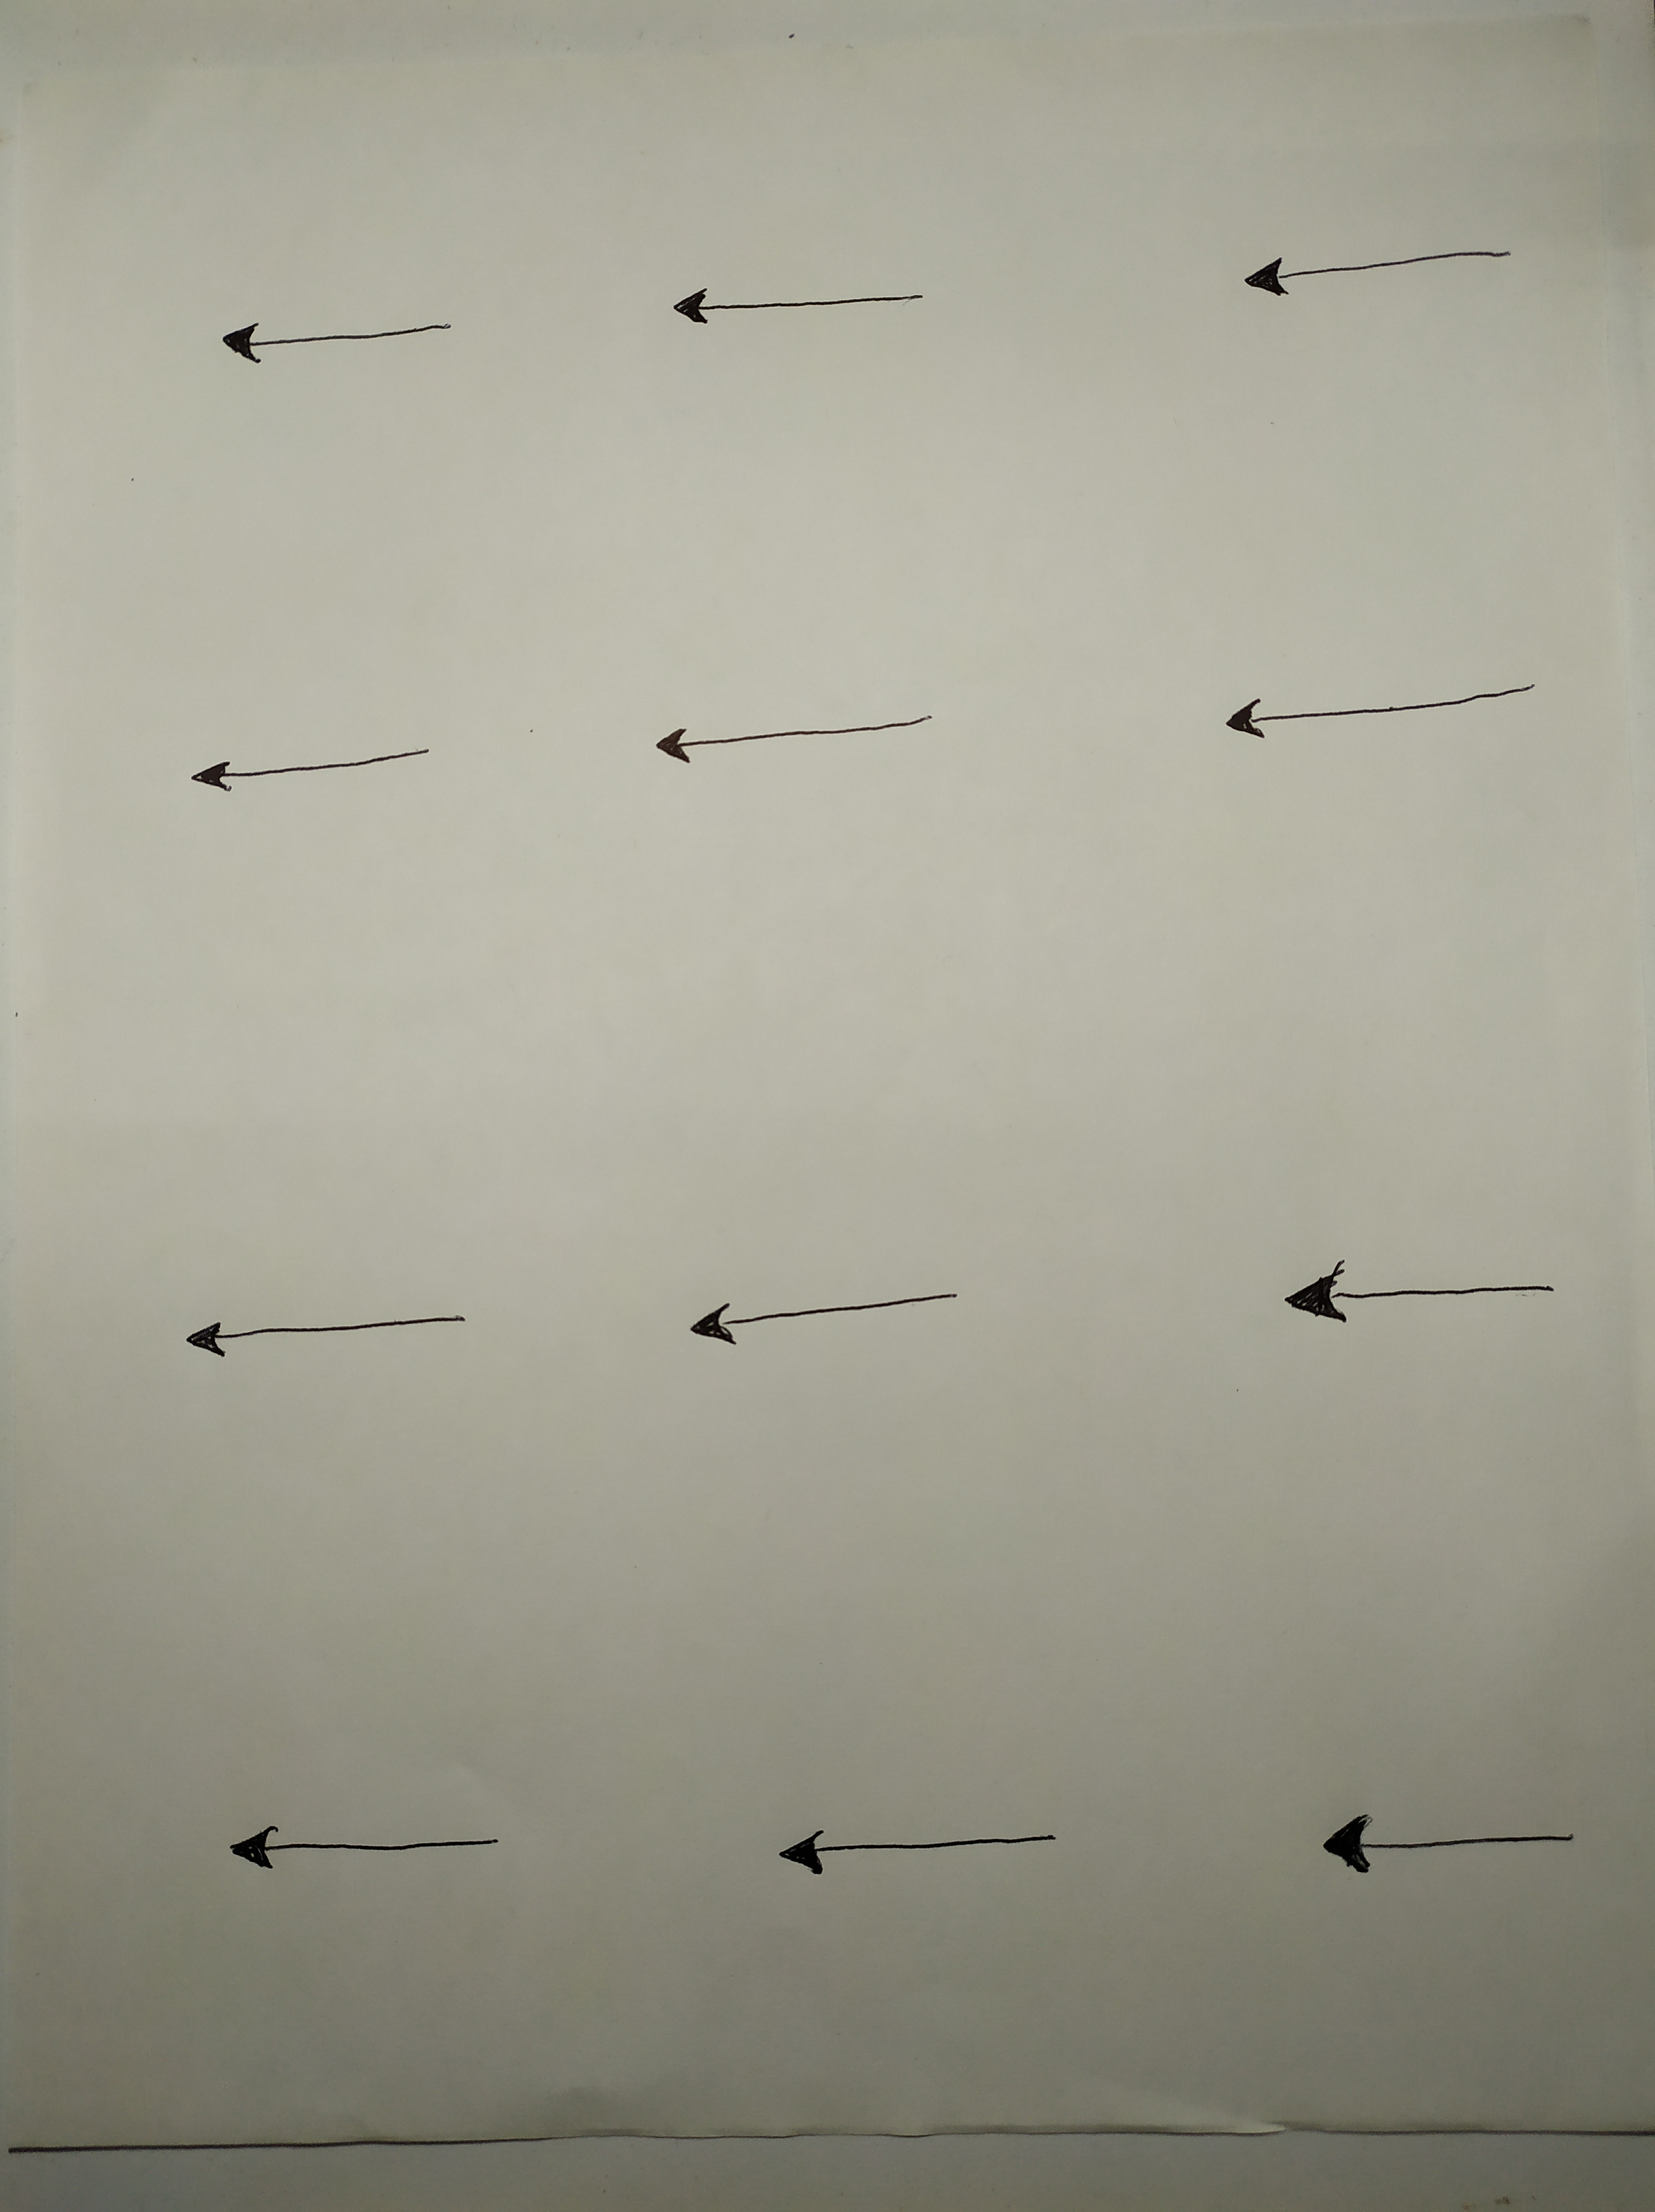arrow_line_left: (1283, 1781, 1606, 1894), (730, 1804, 1099, 1903), (136, 1296, 528, 1378), (191, 1809, 542, 1894), (1196, 671, 1579, 747), (1243, 1253, 1594, 1331), (615, 702, 977, 772), (652, 1282, 986, 1352), (1212, 233, 1533, 299), (169, 726, 459, 799), (650, 276, 977, 341), (188, 304, 497, 368)
